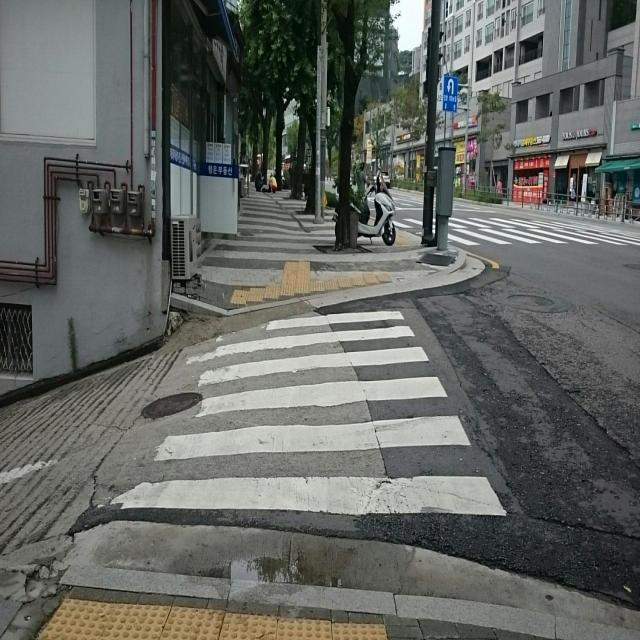횡단보도: (110, 310, 508, 518), (440, 211, 638, 245)
